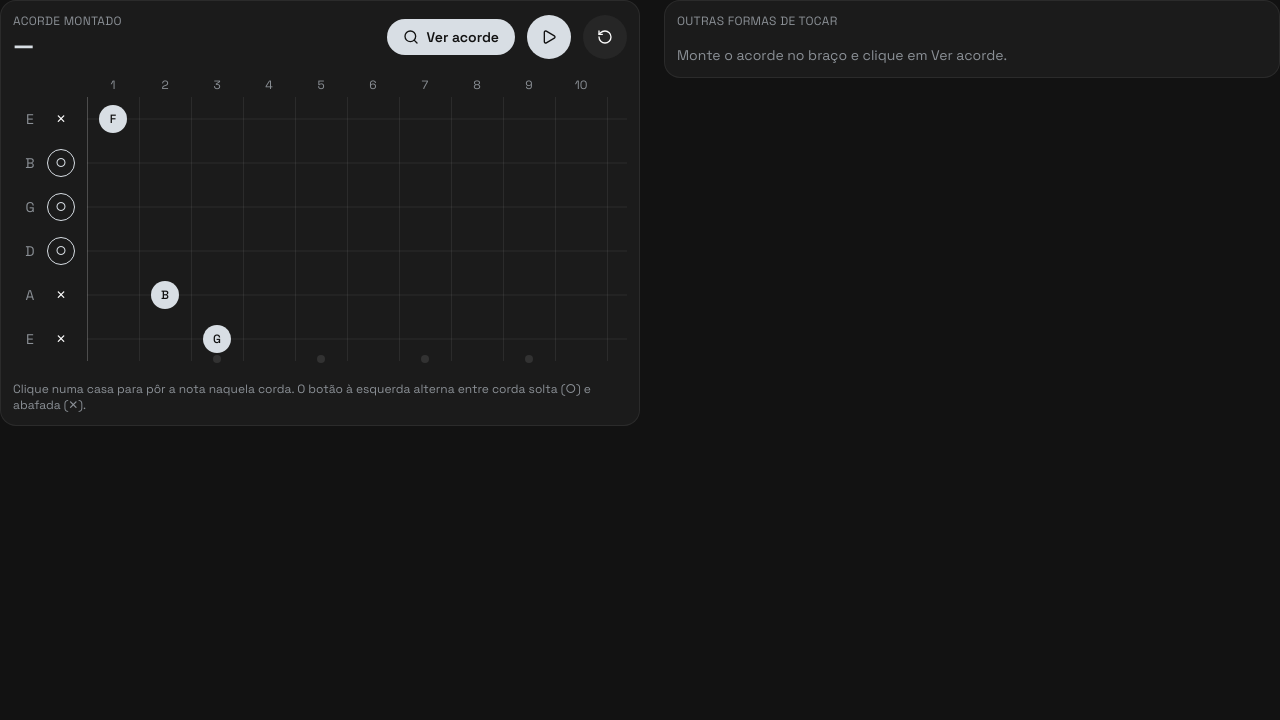
it: ChordPanel › progressions › reads a dominant seventh as pointing at the key a fourth above
Step 1. Click the button "Ver acorde" → (451, 37), box [386,19,515,55]
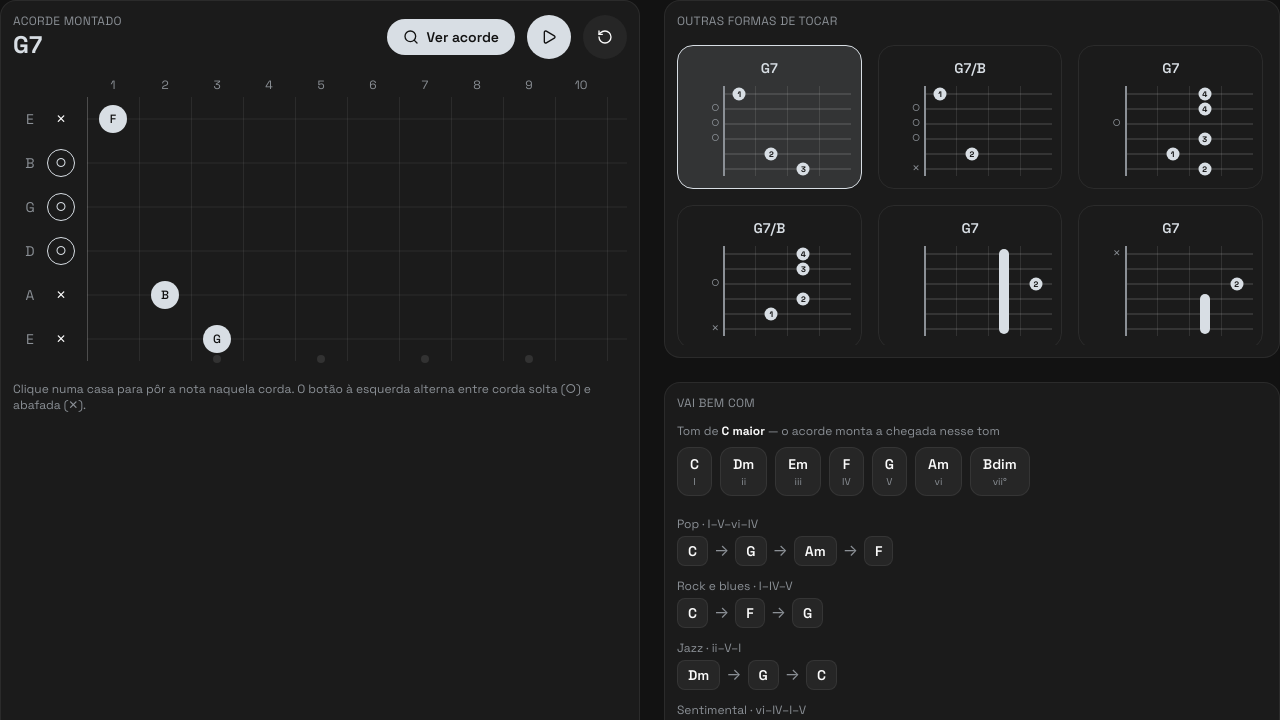
Result: the text with test id "chord-name" reads "G7" at [13,29,42,60]
Result: the text "C maior" is shown at [722,423,765,439]
